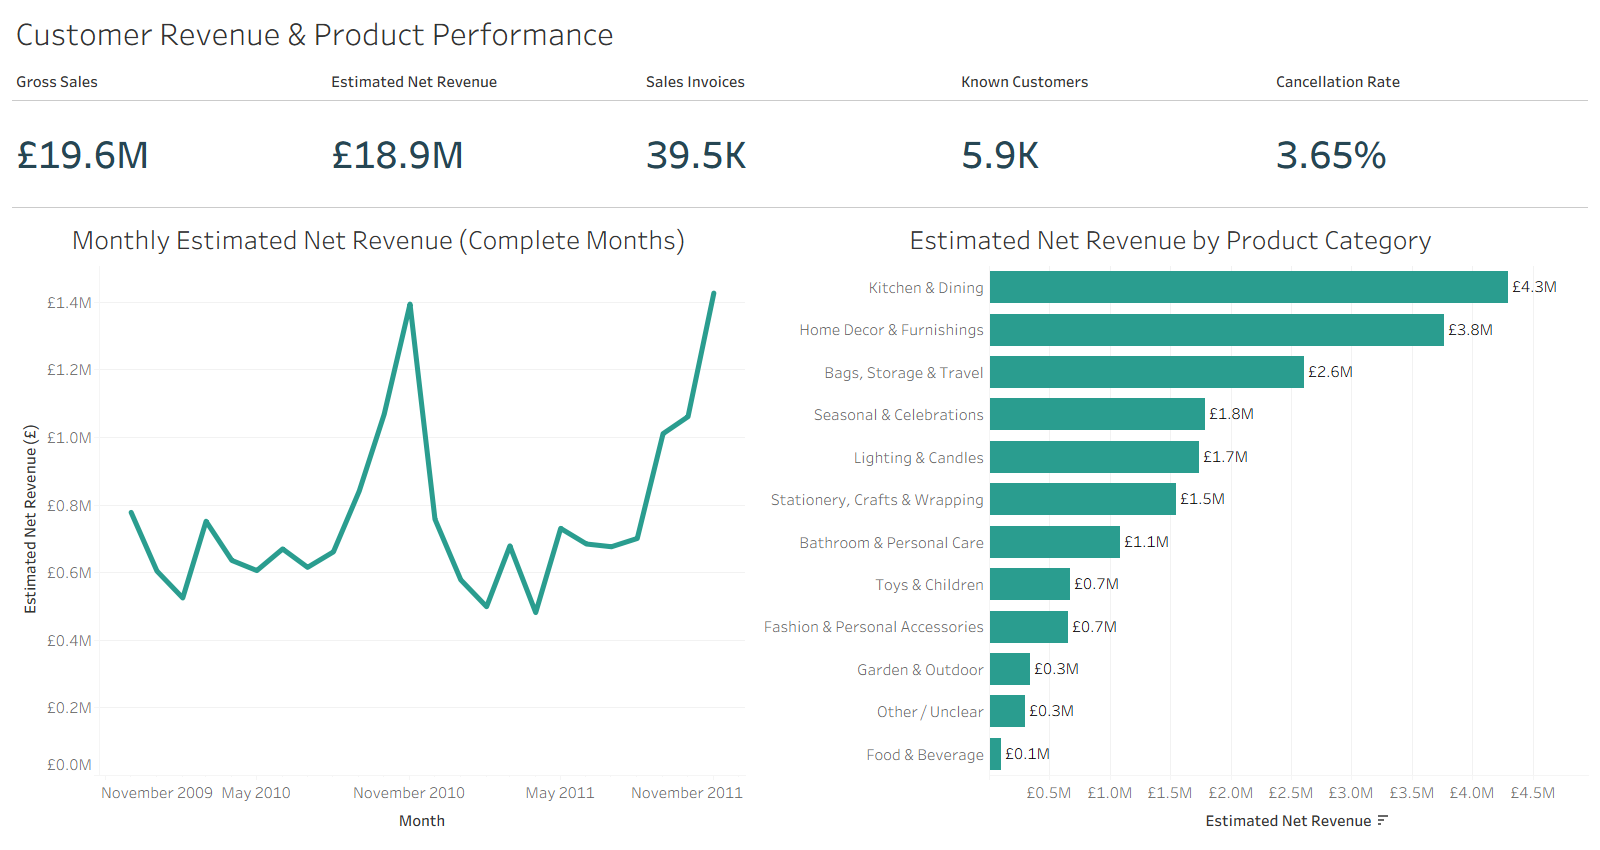

The dashboard page shown, as its layout file describes it:
{"tool":"tableau","page":{"name":"Revenue Overview","canvas":[1600,850],"ordinal":1},"visuals":[{"type":"title","box":[8,8,1584,50]},{"type":"worksheet","title":"Revenue KPI Cards","mark":"Text","cols":["Calculation_0374425443811329"],"box":[8,58,1584,154]},{"type":"worksheet","title":"Monthly Revenue Trend","mark":"Line","rows":["ESTIMATED_NET_REVENUE"],"cols":["MONTH"],"box":[8,212,741,630]},{"type":"worksheet","title":"Category Revenue","mark":"Bar","rows":["PRODUCT_CATEGORY"],"cols":["ESTIMATED_NET_REVENUE"],"box":[749,212,843,630]}]}

Visuals, with their boxes in screenshot pixels (x1, y1, x2, y2), scaled from the page's 1600x850 canvas onto the 1600x850 screenshot:
title: [x1=8, y1=8, x2=1592, y2=58]
"Revenue KPI Cards" worksheet (Text marks): [x1=8, y1=58, x2=1592, y2=212]
"Monthly Revenue Trend" worksheet (Line marks): [x1=8, y1=212, x2=749, y2=842]
"Category Revenue" worksheet (Bar marks): [x1=749, y1=212, x2=1592, y2=842]
